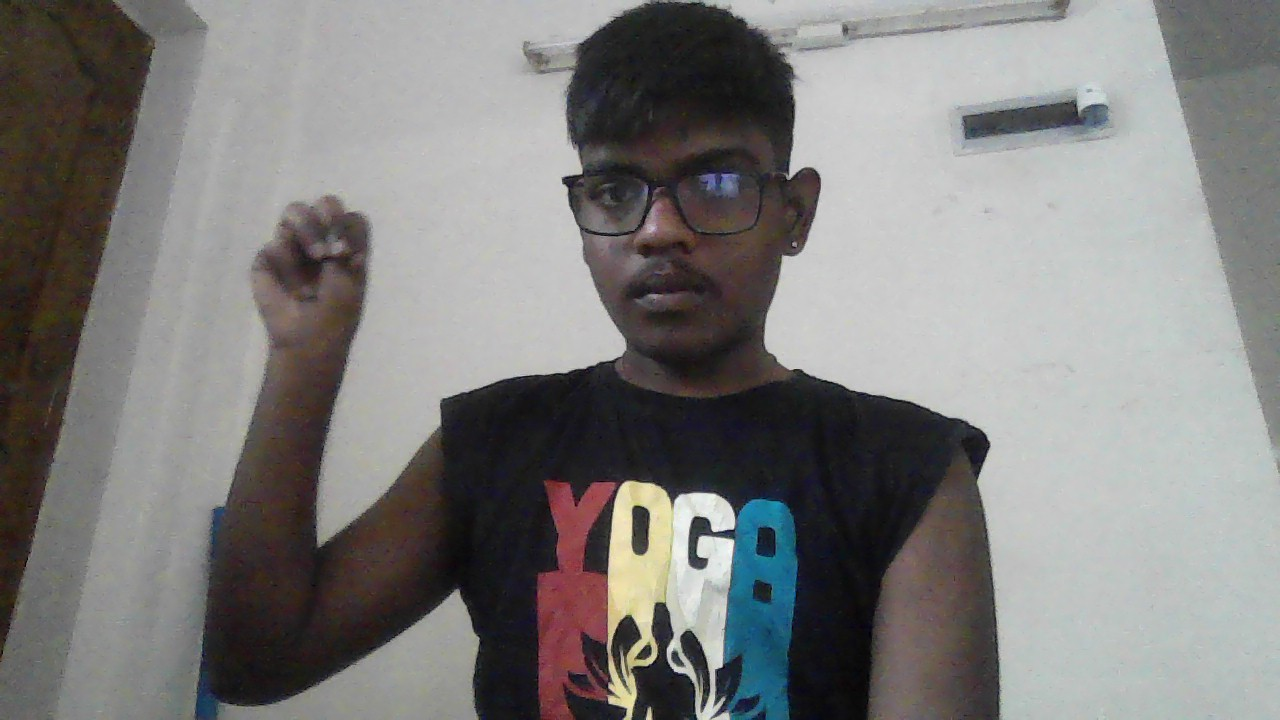M: (254, 196, 372, 358)
